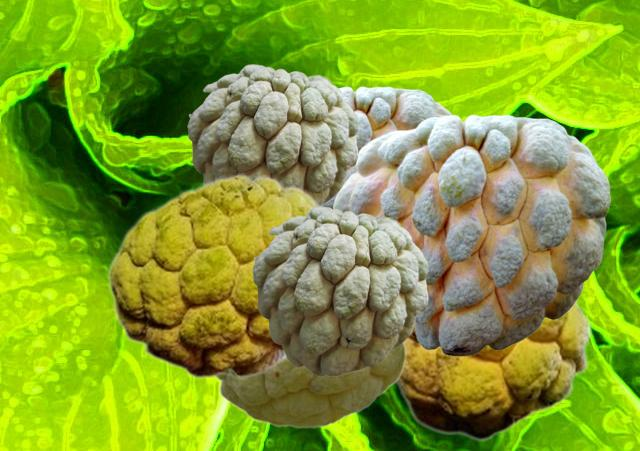atis: (333, 114, 609, 355), (106, 173, 322, 378), (252, 206, 427, 375), (394, 299, 591, 440), (187, 64, 357, 204), (215, 342, 405, 427), (323, 86, 451, 207)
